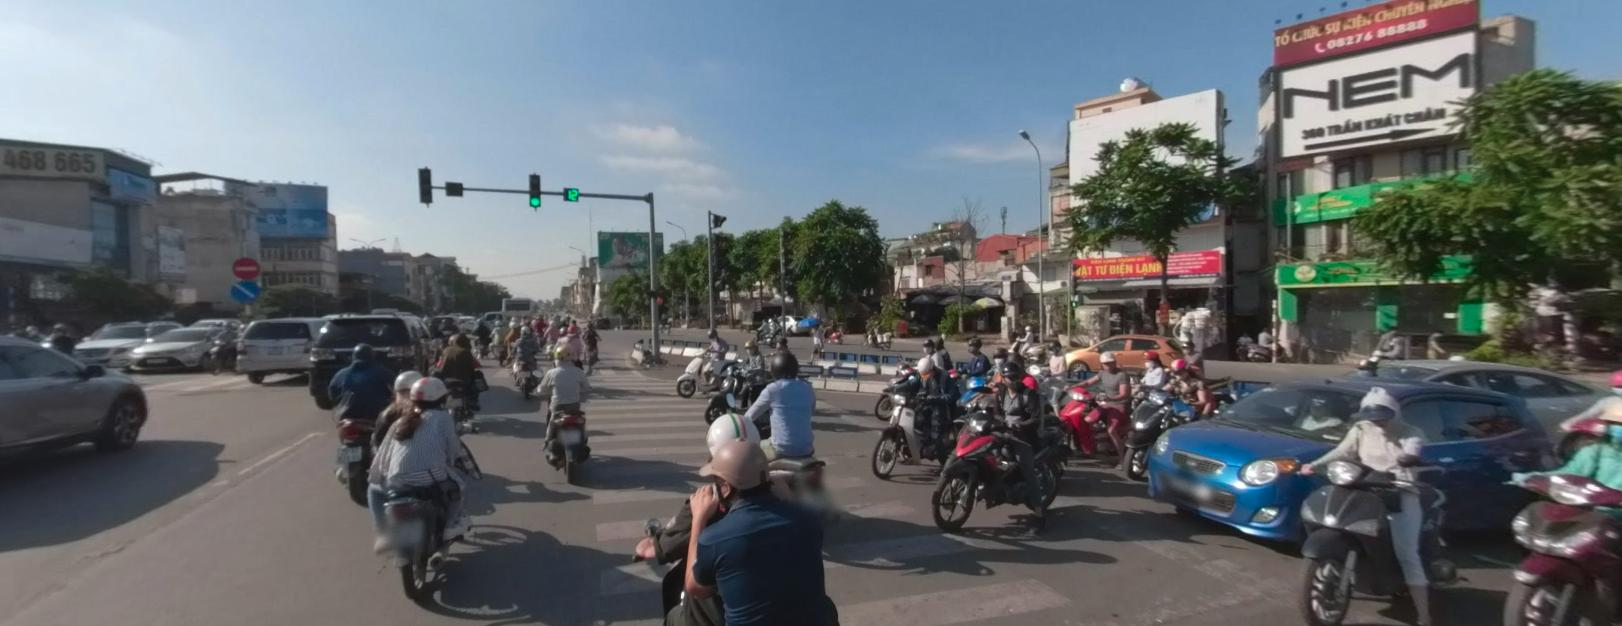Cam nguoc chieu: (231, 255, 258, 276)
Hieu lenh: (231, 279, 259, 300)
